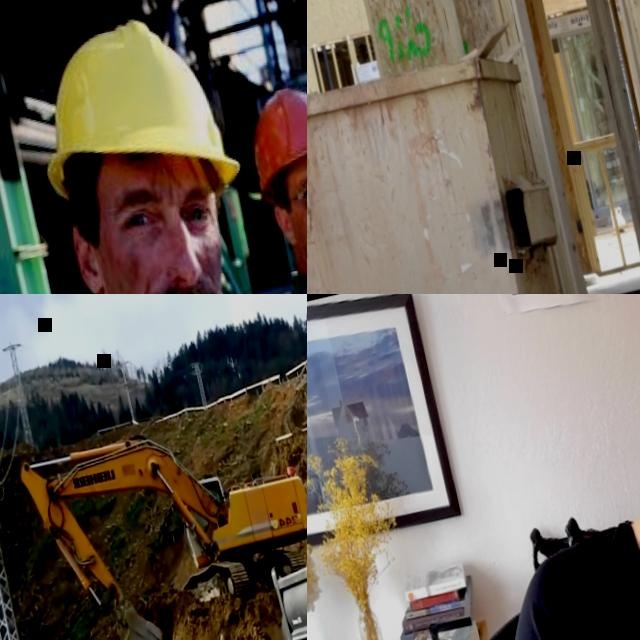Hardhat: (17, 0, 245, 207), (236, 74, 307, 205)
NO-Mask: (105, 265, 241, 294)
Person: (0, 0, 307, 294), (405, 294, 640, 640), (218, 60, 307, 294)
machinery: (17, 395, 307, 640)
